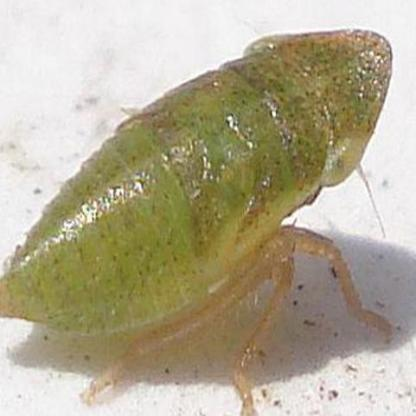green-leafhopper: (2, 26, 384, 382)
